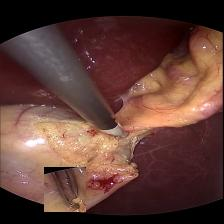Grasper: (44, 166, 86, 211)
Hook: (98, 124, 132, 138)
